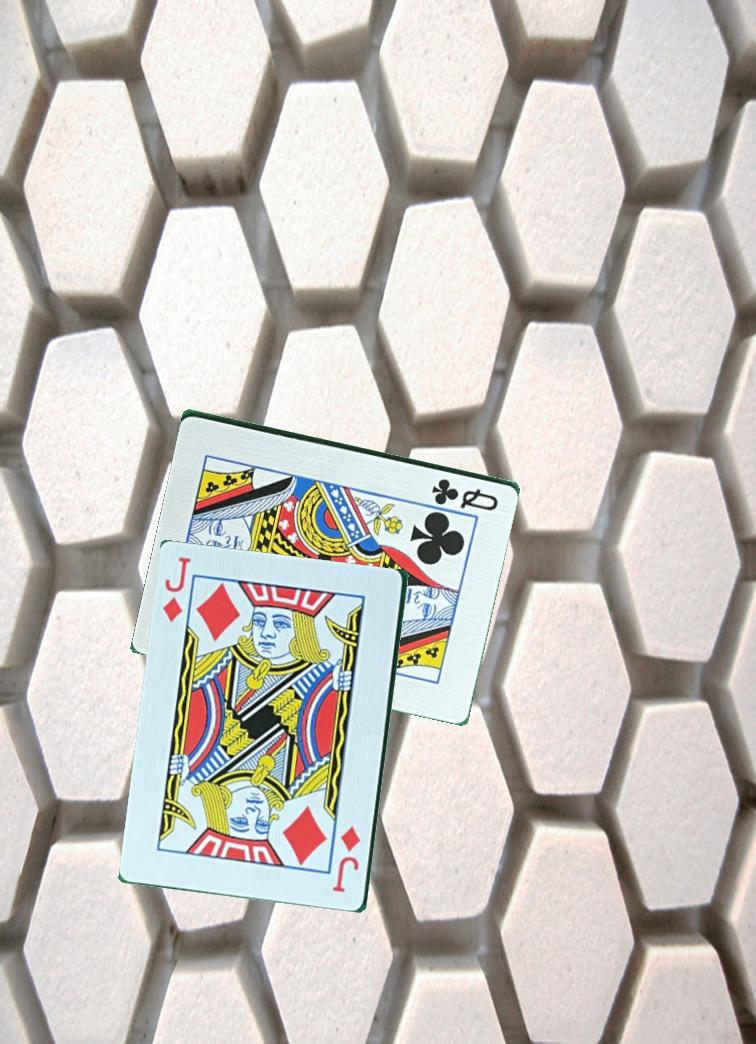jd: (160, 554, 194, 626), (331, 823, 364, 896)
qc: (428, 474, 502, 514)
